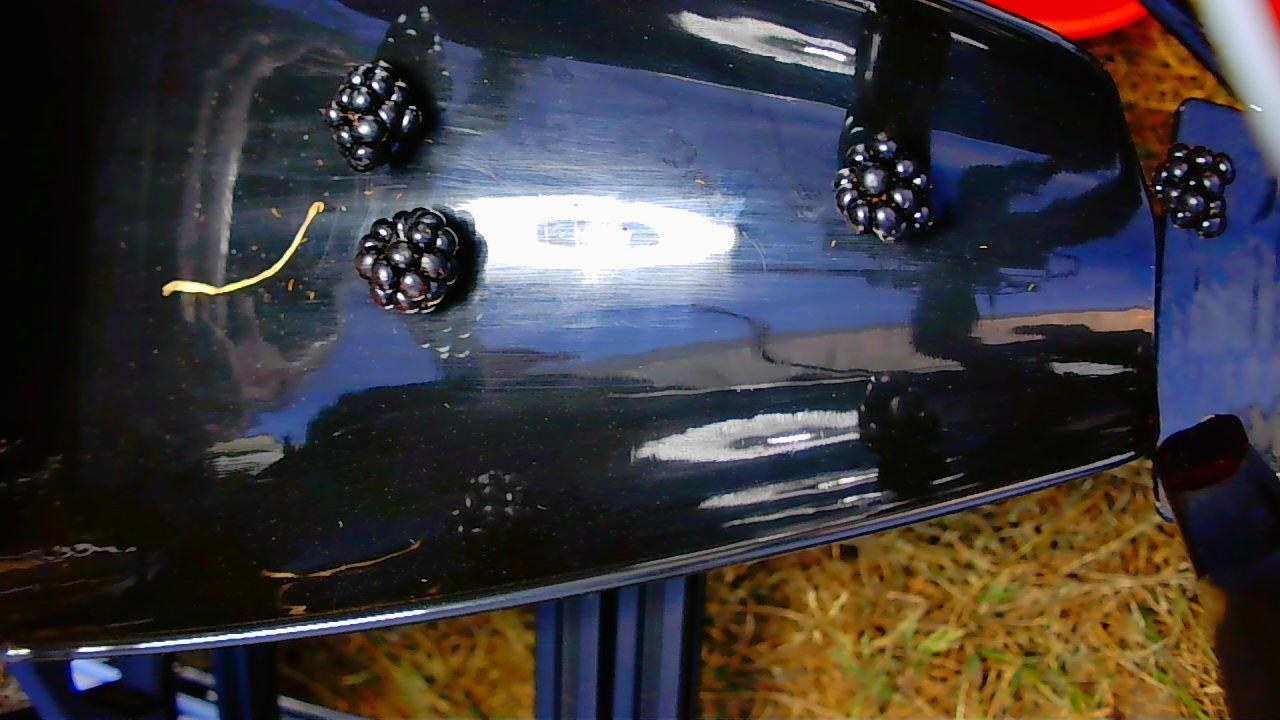berry: (354, 208, 466, 313), (322, 60, 423, 171), (834, 132, 932, 242), (1153, 143, 1235, 237)
